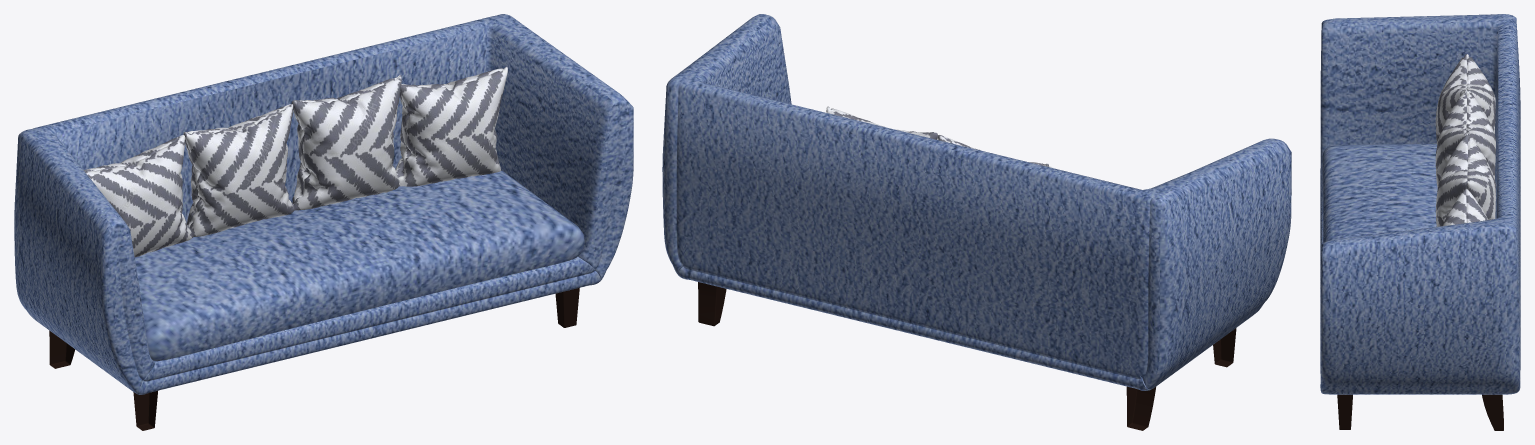
3 views of the same model, side by side, from view 1: azimuth 30°, elevation 25°; view 2: azimuth 150°, elevation 25°; view 3: azimuth 270°, elevation 25° (orthographic). The views are drawn at different scales.
Parts seen in each view (by area): view 1: couch, seat, pillow_03_geo, Legs_01_geo; view 2: couch, Legs_01_geo, pillow_03_geo; view 3: couch, seat, pillow_03_geo, Legs_01_geo.
Boxes of the visible parts, left/top/right/bottom form: couch: left=14, top=14, right=633, bottom=394; seat: left=135, top=170, right=584, bottom=361; pillow_03_geo: left=83, top=66, right=507, bottom=257; Legs_01_geo: left=49, top=287, right=579, bottom=430; couch: left=662, top=14, right=1291, bottom=390; Legs_01_geo: left=698, top=282, right=1236, bottom=430; pillow_03_geo: left=826, top=106, right=1054, bottom=168; couch: left=1320, top=14, right=1520, bottom=394; seat: left=1321, top=144, right=1437, bottom=242; pillow_03_geo: left=1435, top=54, right=1496, bottom=226; Legs_01_geo: left=1337, top=394, right=1503, bottom=430.
Size of the model in its own units: 2.09 by 0.8929 by 0.7535.
4 materials, 3 textured.
